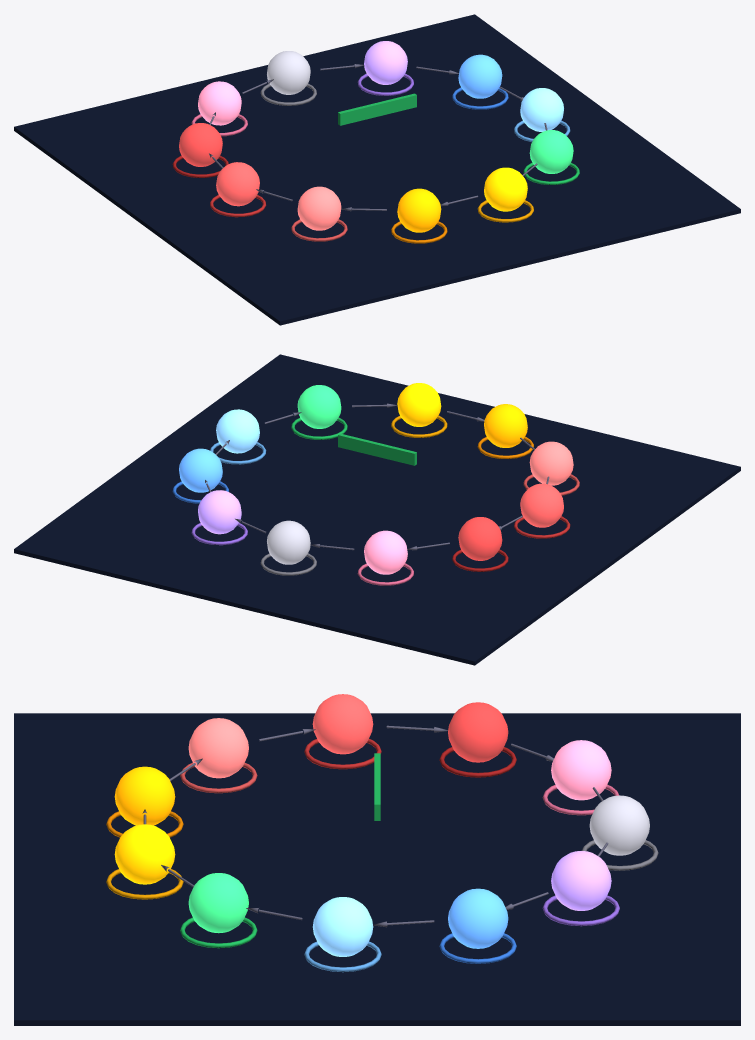
The model's file is tcp_state_machine_blinded.glb.
The picture shows the model from 3 angles, top to bottom: view 1: azimuth 30°, elevation 25°; view 2: azimuth 150°, elevation 25°; view 3: azimuth 270°, elevation 25°; orthographic projection. The views are drawn at different scales.
Visible parts, largest first — view 1: Platform, FIN_WAIT_1, LAST_ACK, SYN_SENT, LISTEN, CLOSE_WAIT, FIN_WAIT_2, ESTABLISHED, CLOSING, CLOSED, TIME_WAIT, SYN_RCVD (+1 smaller); view 2: Platform, CLOSED, TIME_WAIT, FIN_WAIT_2, CLOSE_WAIT, CLOSING, ESTABLISHED, LAST_ACK, FIN_WAIT_1, LISTEN, SYN_RCVD, SYN_SENT (+1 smaller); view 3: Platform, CLOSING, FIN_WAIT_2, SYN_SENT, LISTEN, SYN_RCVD, CLOSE_WAIT, ESTABLISHED, CLOSED, TIME_WAIT, FIN_WAIT_1, LAST_ACK (+8 smaller).
Boxes of the visible parts, box(x1,y1,x2,y2) form: Platform: box(14, 14, 740, 325); FIN_WAIT_1: box(297, 186, 341, 230); LAST_ACK: box(397, 188, 441, 232); SYN_SENT: box(458, 54, 502, 98); LISTEN: box(364, 41, 407, 84); CLOSE_WAIT: box(484, 167, 527, 211); FIN_WAIT_2: box(216, 162, 259, 206); ESTABLISHED: box(529, 130, 573, 173); CLOSING: box(179, 123, 222, 166); CLOSED: box(267, 51, 310, 94); TIME_WAIT: box(198, 81, 241, 125); SYN_RCVD: box(520, 88, 563, 131); Platform: box(14, 354, 740, 665); CLOSED: box(267, 520, 310, 564); TIME_WAIT: box(364, 530, 407, 574); FIN_WAIT_2: box(520, 483, 563, 527); CLOSE_WAIT: box(397, 383, 441, 426); CLOSING: box(458, 517, 502, 560); ESTABLISHED: box(297, 385, 341, 428); LAST_ACK: box(484, 404, 527, 447); FIN_WAIT_1: box(529, 441, 573, 485); LISTEN: box(198, 490, 241, 534); SYN_RCVD: box(216, 409, 259, 453); SYN_SENT: box(179, 448, 222, 492); Platform: box(14, 713, 740, 1025); CLOSING: box(448, 702, 508, 762); FIN_WAIT_2: box(312, 694, 373, 754); SYN_SENT: box(448, 888, 508, 948); LISTEN: box(551, 851, 611, 910); SYN_RCVD: box(312, 897, 373, 956); CLOSE_WAIT: box(114, 824, 175, 884); ESTABLISHED: box(188, 873, 248, 933); CLOSED: box(589, 795, 649, 855); TIME_WAIT: box(551, 740, 611, 800); FIN_WAIT_1: box(188, 718, 248, 778); LAST_ACK: box(114, 766, 175, 825).
Size of the model in its own units: 12 by 1.7 by 12.
